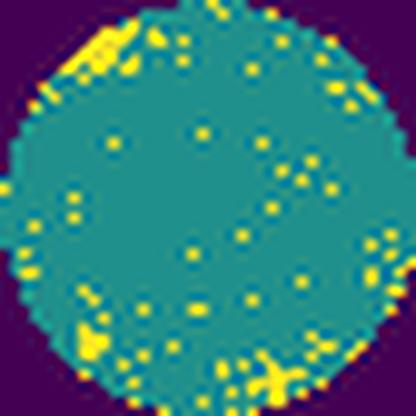Edge-Loc: (64, 10, 148, 87), (242, 342, 308, 416)
